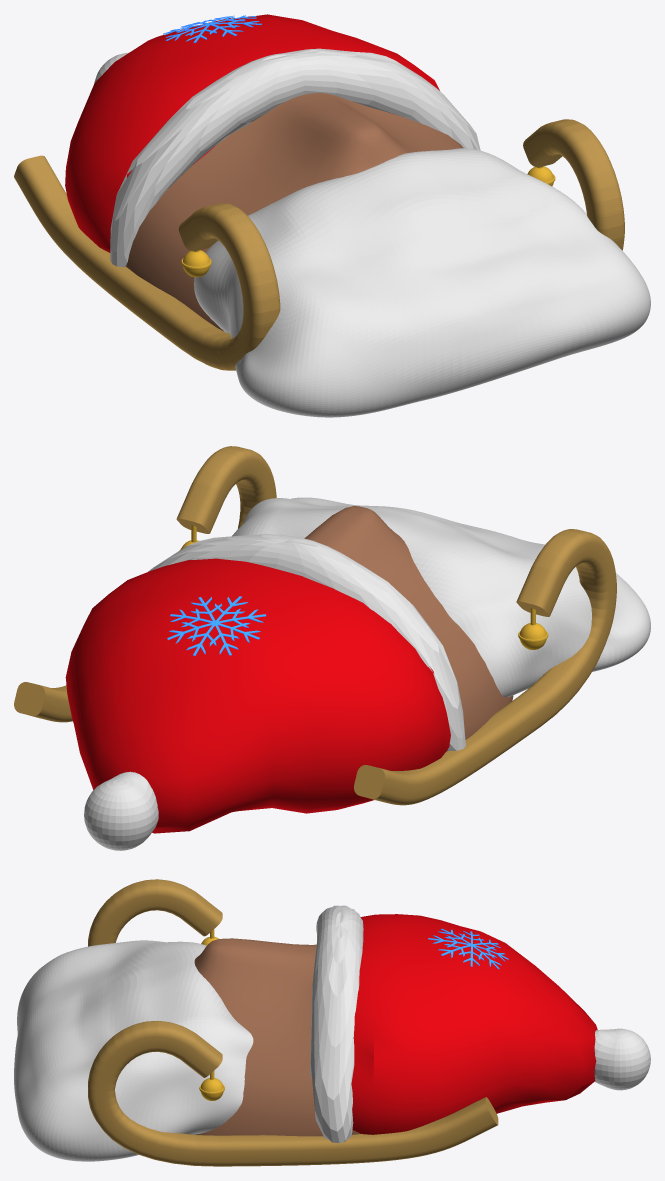
The model's file is santa.fbx.
3 renders of one model, top to bottom at view 1: azimuth 30°, elevation 25°; view 2: azimuth 150°, elevation 25°; view 3: azimuth 270°, elevation 25°, orthographic. The views are drawn at different scales.
Parts seen in each view (by area): view 1: Beard, Head, Cube.001, Sphere.002, Sphere.001, snowflake, Sphere.004; view 2: Sphere.002, Beard, Cube.001, Sphere.001, Head, Sphere.003, snowflake, Sphere.004; view 3: Sphere.002, Beard, Cube.001, Head, Sphere.001, Sphere.003, snowflake, Sphere.004.
Boxes of the visible parts, bbox=[...] form: Beard: bbox=[194, 148, 650, 417]; Head: bbox=[126, 93, 463, 331]; Cube.001: bbox=[14, 119, 624, 370]; Sphere.002: bbox=[65, 14, 439, 252]; Sphere.001: bbox=[110, 48, 480, 267]; snowflake: bbox=[163, 15, 261, 42]; Sphere.004: bbox=[181, 166, 555, 277]; Sphere.002: bbox=[65, 558, 450, 833]; Beard: bbox=[232, 497, 650, 697]; Cube.001: bbox=[14, 446, 616, 805]; Sphere.001: bbox=[148, 534, 465, 750]; Head: bbox=[304, 506, 513, 751]; Sphere.003: bbox=[84, 771, 158, 850]; snowflake: bbox=[167, 596, 266, 655]; Sphere.004: bbox=[179, 525, 548, 649]; Sphere.002: bbox=[351, 914, 597, 1134]; Beard: bbox=[14, 940, 253, 1161]; Cube.001: bbox=[88, 879, 498, 1166]; Head: bbox=[194, 938, 359, 1136]; Sphere.001: bbox=[310, 905, 363, 1143]; Sphere.003: bbox=[594, 1028, 650, 1090]; snowflake: bbox=[428, 928, 508, 969]; Sphere.004: bbox=[199, 929, 224, 1100].
Size of the model in its own units: 39.01 by 19.72 by 65.61.
